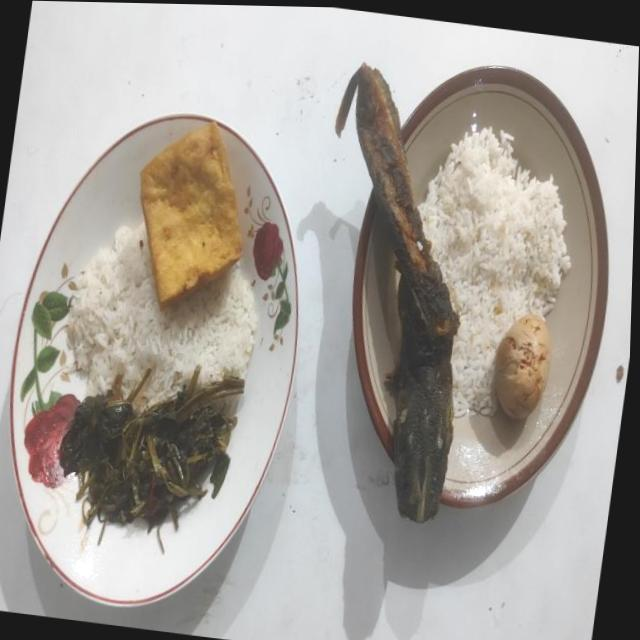nasi_putih: (418, 127, 570, 416), (66, 223, 258, 410)
tahu_goreng: (140, 121, 242, 308)
tumis_kangkung: (59, 366, 244, 534)
